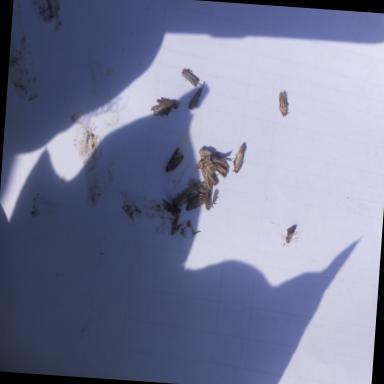pbw: (186, 80, 204, 111), (165, 146, 184, 173), (231, 143, 247, 174), (173, 186, 195, 208), (186, 192, 210, 212), (199, 166, 219, 189), (187, 180, 212, 198), (180, 68, 204, 86), (160, 199, 182, 217), (278, 91, 290, 116), (156, 98, 178, 110), (211, 161, 229, 175), (196, 154, 210, 169)
